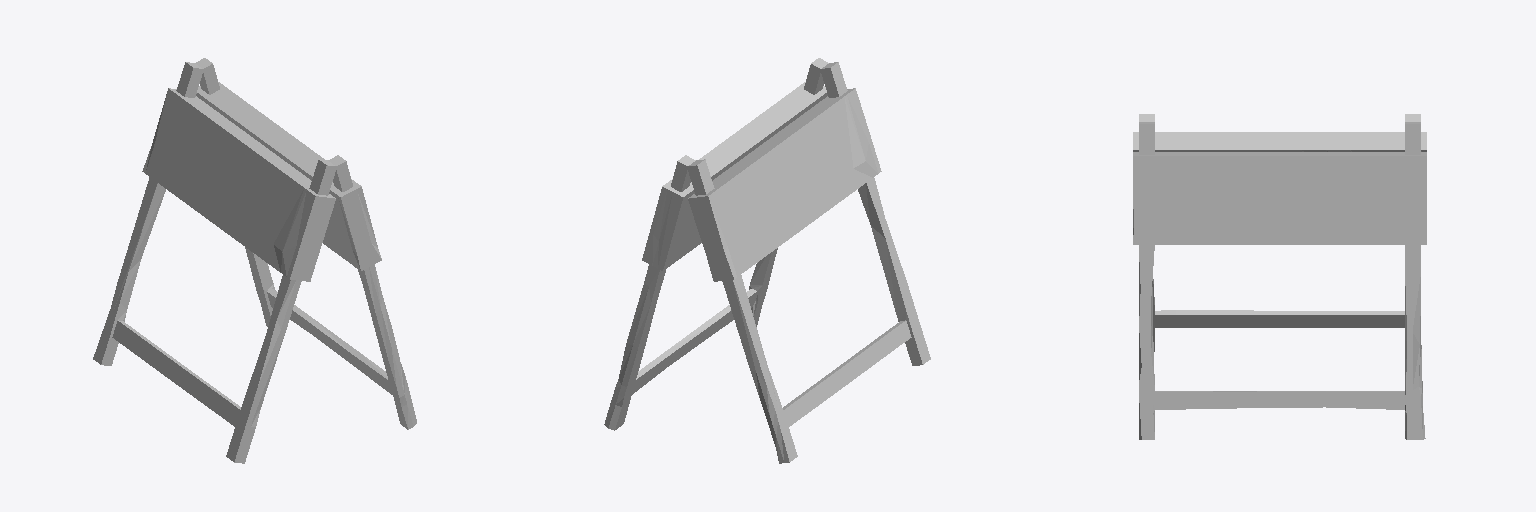
The model's file is road_barrier_1.obj.
3 views of the same model, side by side, from view 1: azimuth 30°, elevation 25°; view 2: azimuth 150°, elevation 25°; view 3: azimuth 270°, elevation 25° (orthographic).
Parts seen in each view (by area): view 1: road_barrier_1_roads_material; view 2: road_barrier_1_roads_material; view 3: road_barrier_1_roads_material.
Boxes of the visible parts, <box> form: road_barrier_1_roads_material: <box>93,58,416,463</box>; road_barrier_1_roads_material: <box>604,58,930,463</box>; road_barrier_1_roads_material: <box>1133,114,1426,439</box>.
Bounding box in the file's own units: 0.722 × 1.06 × 0.9973.